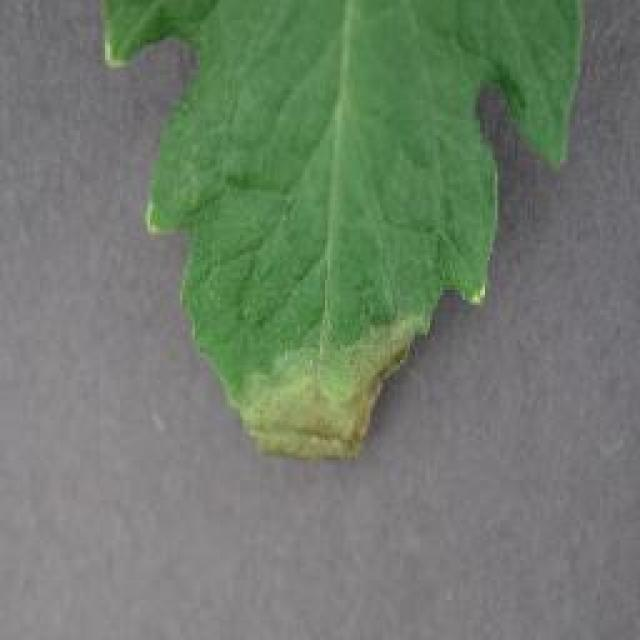Tomato___Late_blight: (105, 0, 578, 452)
